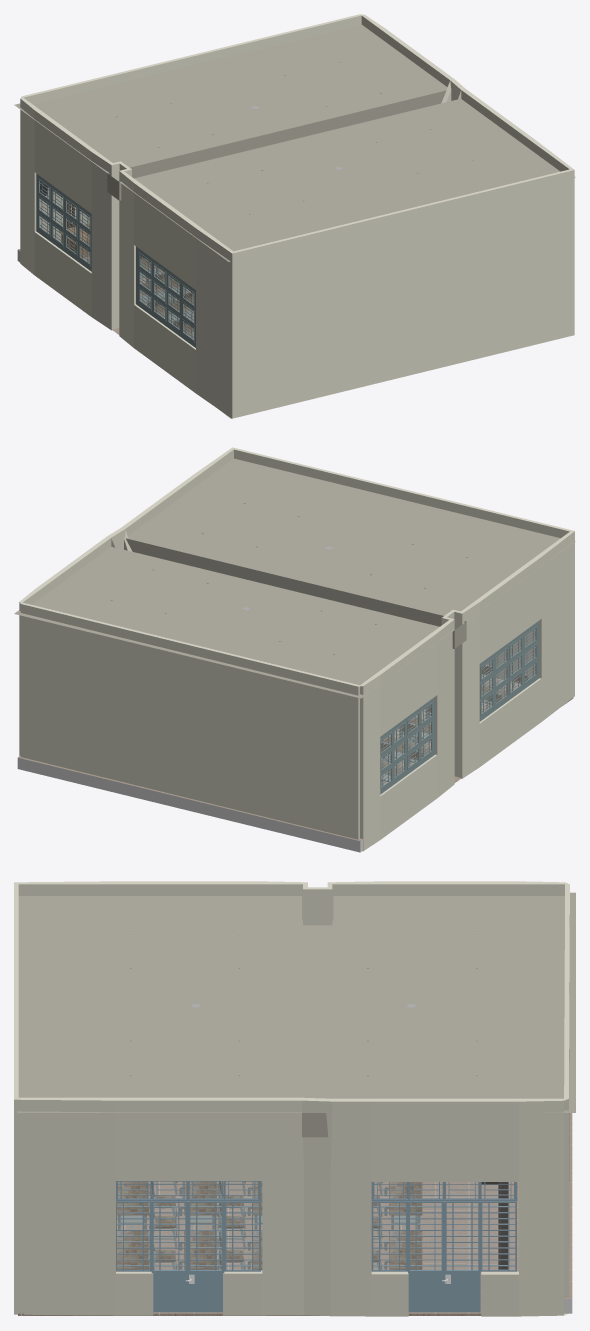
The model's file is Phong Hoc.glb.
3 views of the same model, one above another, from view 1: azimuth 30°, elevation 25°; view 2: azimuth 150°, elevation 25°; view 3: azimuth 270°, elevation 25° (orthographic). The views are drawn at different scales.
Parts seen in each view (by area): view 1: tuong_1, tran_5, cua so.001_13, cua so_11, khung cua so.001_14, khung cua so_12, ban hs_6; view 2: tuong_1, tran_5, san_2, cua so.001_13, cua so_11, khung cua so.001_14, khung cua so_12, ban hs_6, ghe_7; view 3: tran_5, tuong_1, Cube.004_27, san_2, ban hs_6, ghe_7.
Boxes of the visible parts, x1,y1,x2,y2 form: tuong_1: (20, 14, 574, 418); tran_5: (14, 24, 575, 261); cua so.001_13: (138, 252, 194, 342); cua so_11: (38, 179, 90, 266); khung cua so.001_14: (136, 246, 195, 347); khung cua so_12: (36, 173, 91, 271); ban hs_6: (140, 258, 193, 339); tuong_1: (19, 447, 574, 851); tran_5: (14, 458, 575, 698); san_2: (17, 674, 573, 852); cua so.001_13: (480, 626, 536, 715); cua so_11: (380, 702, 432, 789); khung cua so.001_14: (479, 620, 539, 721); khung cua so_12: (380, 697, 435, 794); ban hs_6: (381, 683, 513, 781); ghe_7: (381, 664, 528, 786); tran_5: (17, 892, 575, 1137); tuong_1: (14, 881, 569, 1316); Cube.004_27: (116, 1181, 517, 1312); san_2: (18, 1113, 572, 1315); ban hs_6: (117, 1181, 422, 1270); ghe_7: (148, 1181, 382, 1269).
Size of what is drawn, in the model's own units: 42.32 by 19.56 by 45.44.
Materials: 36 (16 with a texture image).
